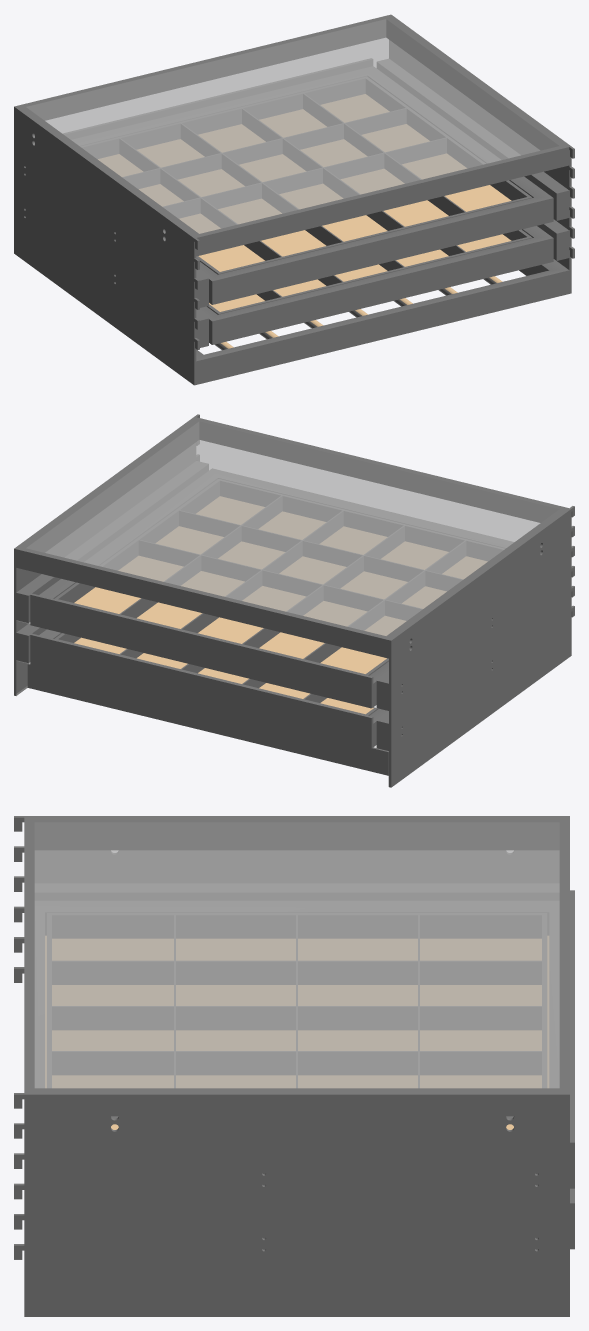
3 renders of one model, top to bottom at view 1: azimuth 30°, elevation 25°; view 2: azimuth 150°, elevation 25°; view 3: azimuth 270°, elevation 25°, orthographic. The views are drawn at different scales.
Visible parts, largest first — view 1: Geom3D (×3); view 2: Geom3D (×3); view 3: Geom3D (×3).
Part boxes in pixels (x1=…): Geom3D (×3): x1=14, y1=14, x2=574, y2=385; Geom3D (×3): x1=14, y1=414, x2=574, y2=787; Geom3D (×3): x1=14, y1=816, x2=574, y2=1316.
Bounding box in the file's own units: 0.6404 × 0.2384 × 0.545.
